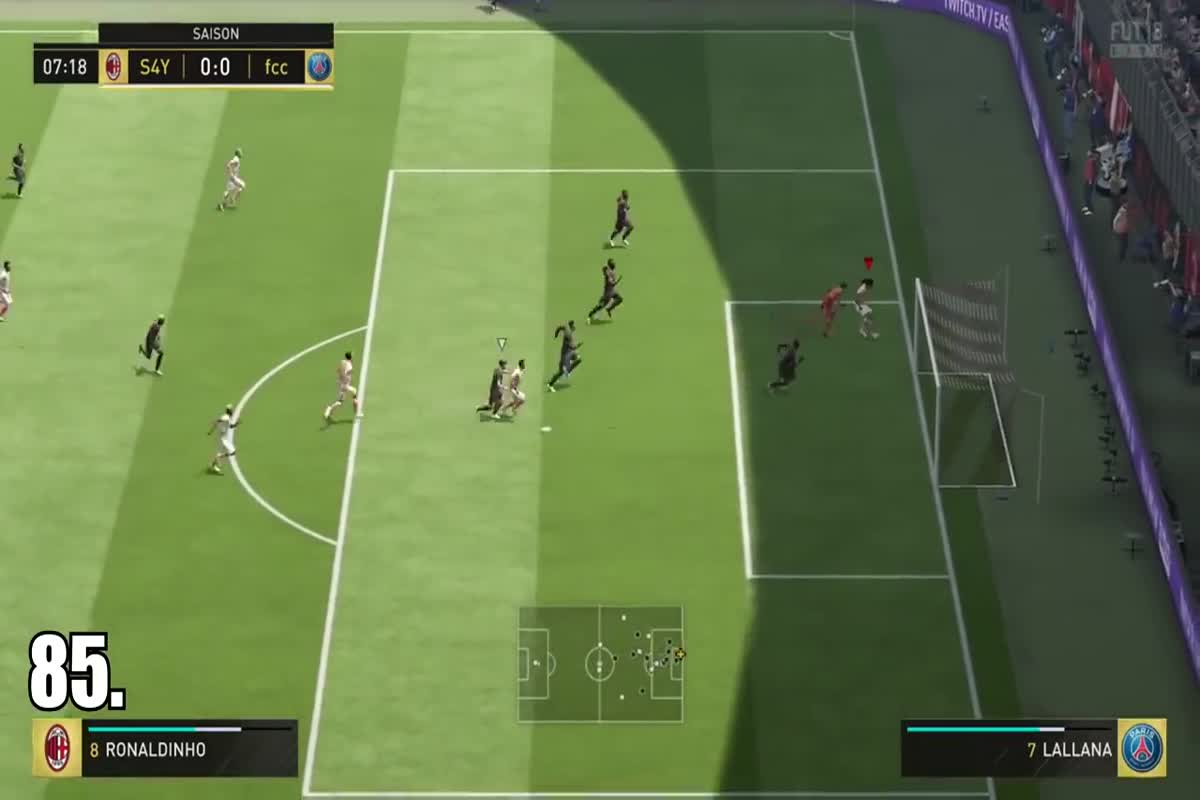ball: (867, 328, 892, 345)
